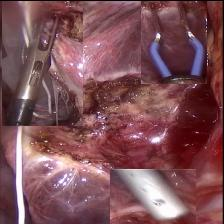Bipolar: (141, 0, 207, 83)
Grasper: (18, 32, 56, 124)
Irrigator: (110, 168, 196, 224)
Specimen Bag: (2, 0, 83, 125)
